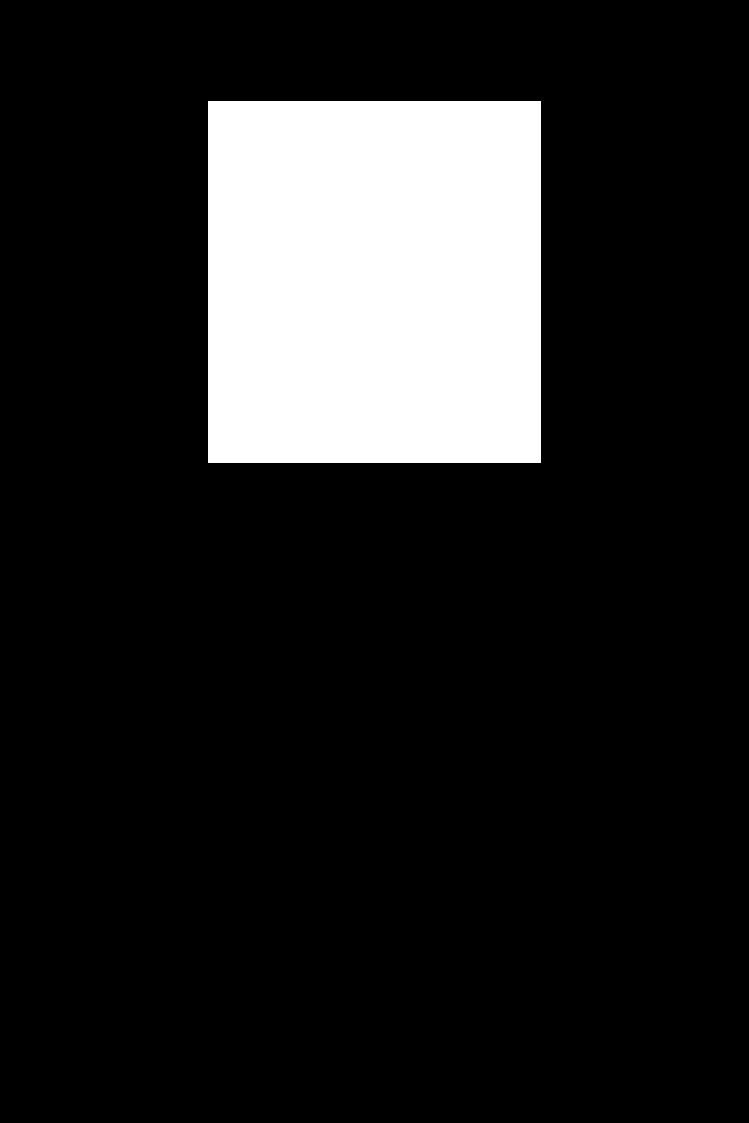table: (208, 101, 540, 462)
